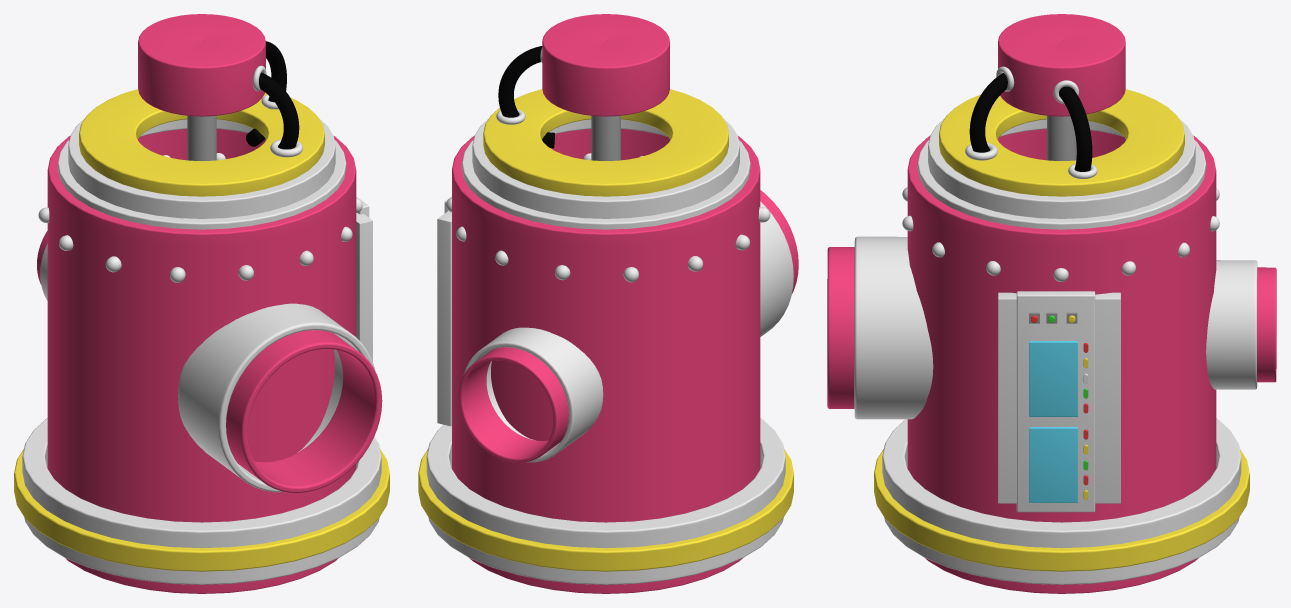
The model's file is machine2 1.fbx.
The picture shows the model from 3 angles, left to right: view 1: azimuth 30°, elevation 25°; view 2: azimuth 150°, elevation 25°; view 3: azimuth 270°, elevation 25°; orthographic projection.
Parts seen in each view (by area): view 1: Obj3d66-9320056-240-150, Obj3d66-9320056-134-922, Obj3d66-9320056-237-532, Obj3d66-9320056-235-12, Obj3d66-9320056-216-785, Obj3d66-9320056-236-105, Obj3d66-9320056-133-138, Obj3d66-9320056-238-657, Obj3d66-9320056-239-57, Obj3d66-9320056-194-462, Obj3d66-9320056-215-931, Obj3d66-9320056-201-7 (+1 smaller); view 2: Obj3d66-9320056-240-150, Obj3d66-9320056-134-922, Obj3d66-9320056-237-532, Obj3d66-9320056-216-785, Obj3d66-9320056-133-138, Obj3d66-9320056-238-657, Obj3d66-9320056-231-913, Obj3d66-9320056-232-838, Obj3d66-9320056-239-57, Obj3d66-9320056-194-462, Obj3d66-9320056-236-105, Obj3d66-9320056-196-794 (+2 smaller); view 3: Obj3d66-9320056-240-150, Obj3d66-9320056-134-922, Obj3d66-9320056-237-532, Obj3d66-9320056-236-105, Obj3d66-9320056-216-785, Obj3d66-9320056-133-138, Obj3d66-9320056-193-464, Obj3d66-9320056-194-462, Obj3d66-9320056-238-657, Obj3d66-9320056-232-838, Obj3d66-9320056-235-12, Obj3d66-9320056-239-57 (+6 smaller).
Boxes of the visible parts, <box> form: Obj3d66-9320056-240-150: <box>47,129,356,593</box>; Obj3d66-9320056-134-922: <box>22,418,381,584</box>; Obj3d66-9320056-237-532: <box>79,89,324,196</box>; Obj3d66-9320056-235-12: <box>226,330,382,492</box>; Obj3d66-9320056-216-785: <box>138,14,265,116</box>; Obj3d66-9320056-236-105: <box>178,303,375,492</box>; Obj3d66-9320056-133-138: <box>14,449,389,571</box>; Obj3d66-9320056-238-657: <box>68,118,335,218</box>; Obj3d66-9320056-239-57: <box>57,140,346,229</box>; Obj3d66-9320056-194-462: <box>356,213,372,361</box>; Obj3d66-9320056-215-931: <box>187,115,216,160</box>; Obj3d66-9320056-201-7: <box>259,72,299,149</box>; Obj3d66-9320056-240-150: <box>452,129,760,593</box>; Obj3d66-9320056-134-922: <box>426,418,785,584</box>; Obj3d66-9320056-237-532: <box>483,89,728,196</box>; Obj3d66-9320056-216-785: <box>542,14,669,116</box>; Obj3d66-9320056-133-138: <box>418,449,793,571</box>; Obj3d66-9320056-238-657: <box>472,118,739,218</box>; Obj3d66-9320056-231-913: <box>458,347,568,462</box>; Obj3d66-9320056-232-838: <box>463,327,603,462</box>; Obj3d66-9320056-239-57: <box>461,140,750,229</box>; Obj3d66-9320056-194-462: <box>437,211,451,426</box>; Obj3d66-9320056-236-105: <box>760,201,793,336</box>; Obj3d66-9320056-196-794: <box>498,46,554,148</box>; Obj3d66-9320056-240-150: <box>907,129,1216,593</box>; Obj3d66-9320056-134-922: <box>882,418,1241,584</box>; Obj3d66-9320056-237-532: <box>939,89,1184,196</box>; Obj3d66-9320056-236-105: <box>854,236,933,419</box>; Obj3d66-9320056-216-785: <box>998,14,1125,116</box>; Obj3d66-9320056-133-138: <box>874,449,1249,571</box>; Obj3d66-9320056-193-464: <box>1016,291,1095,512</box>; Obj3d66-9320056-194-462: <box>998,292,1120,503</box>; Obj3d66-9320056-238-657: <box>928,118,1195,218</box>; Obj3d66-9320056-232-838: <box>1206,260,1257,389</box>; Obj3d66-9320056-235-12: <box>827,247,854,408</box>; Obj3d66-9320056-239-57: <box>917,140,1206,229</box>.
Size of the model in its own units: 88.31 by 127 by 106.
